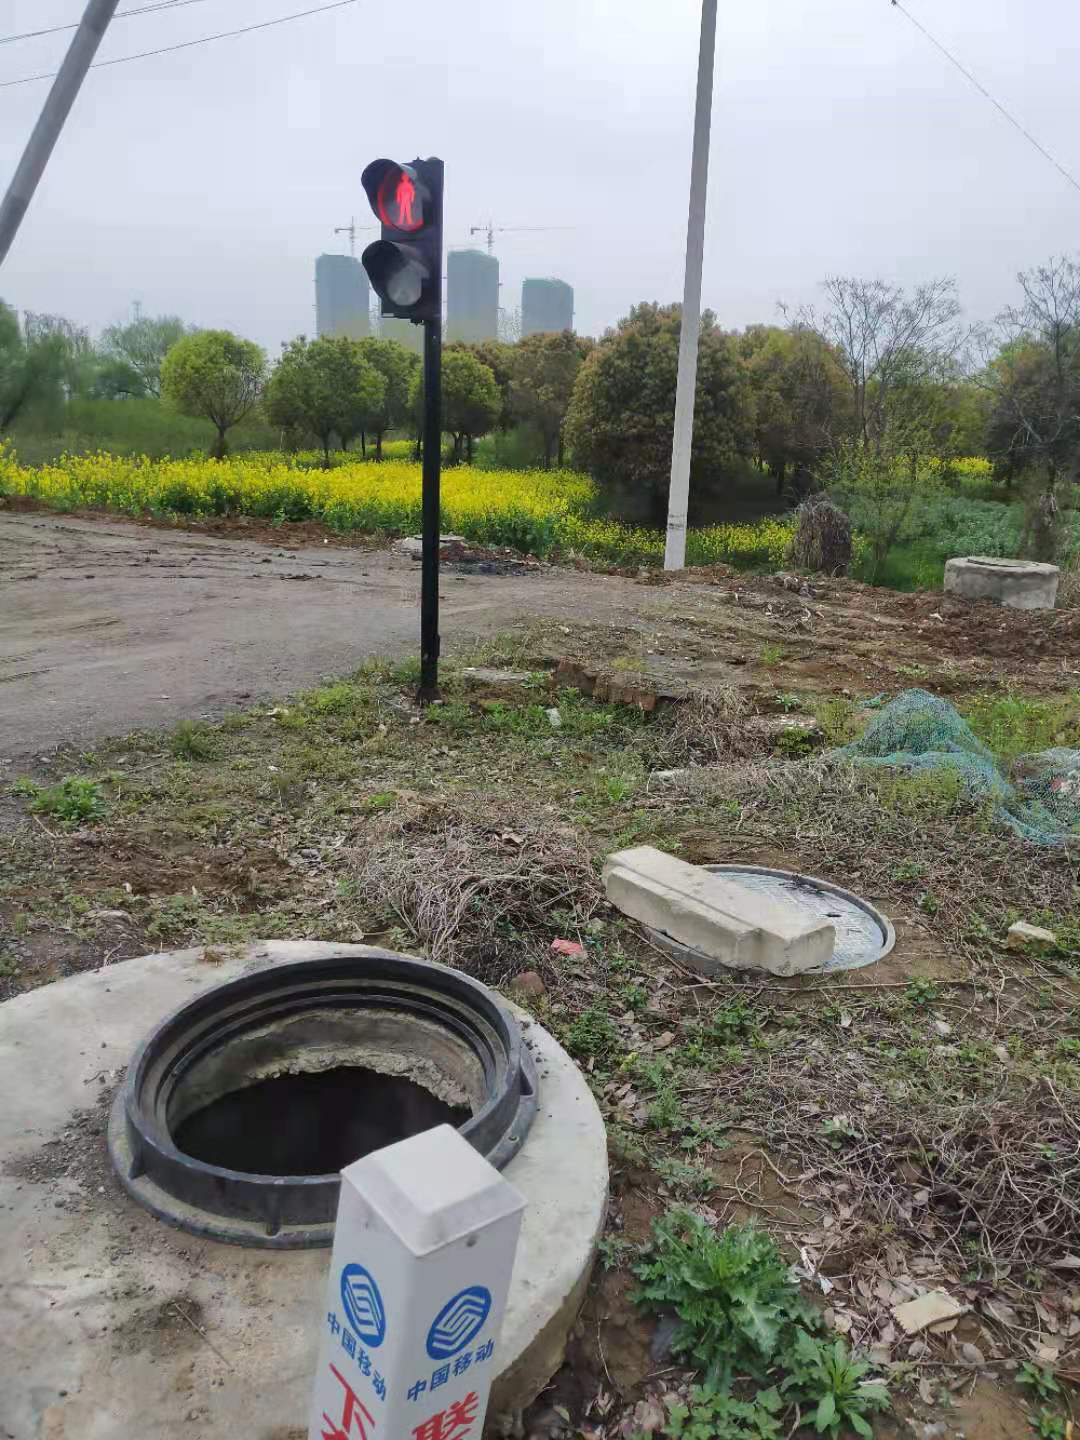lose: (96, 945, 541, 1239)
